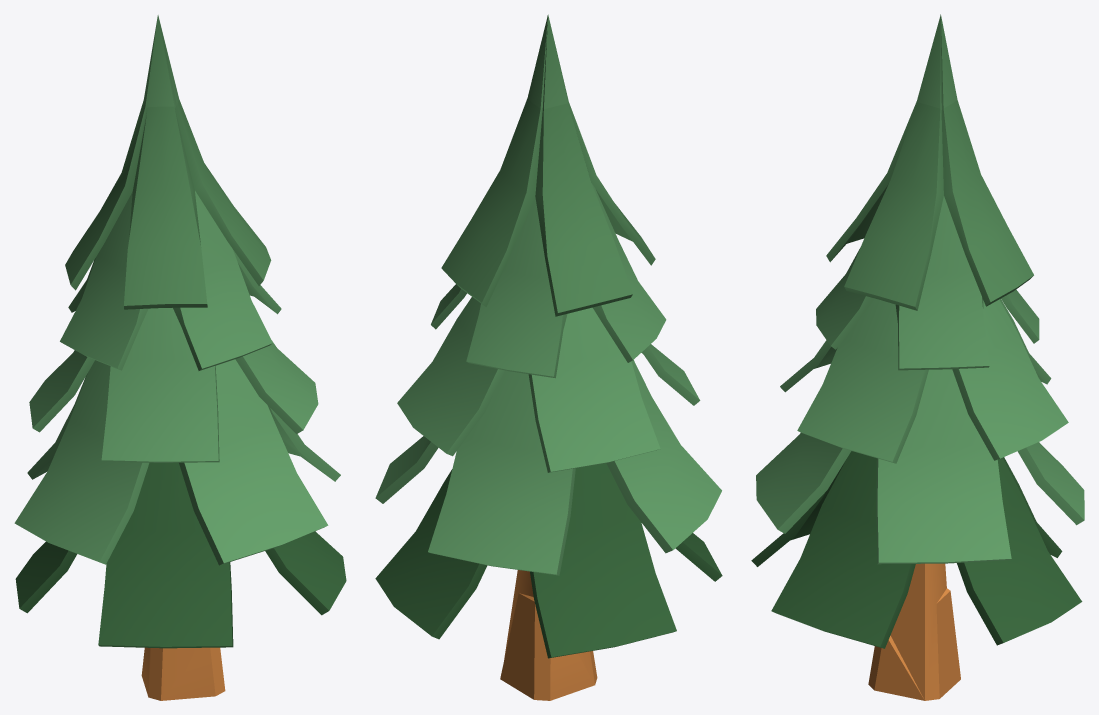
File: Tree_02.fbx
The picture shows the model from 3 angles, left to right: view 1: azimuth 30°, elevation 25°; view 2: azimuth 150°, elevation 25°; view 3: azimuth 270°, elevation 25°; orthographic projection. The views are drawn at different scales.
Visible parts, largest first — view 1: Tree_02; view 2: Tree_02; view 3: Tree_02.
Part boxes in pixels (x1,y1,x2,y2): Tree_02: (14, 15, 346, 700); Tree_02: (375, 14, 722, 700); Tree_02: (751, 14, 1084, 700).
Bounding box in the file's own units: 3.85 × 8.5 × 3.87.
